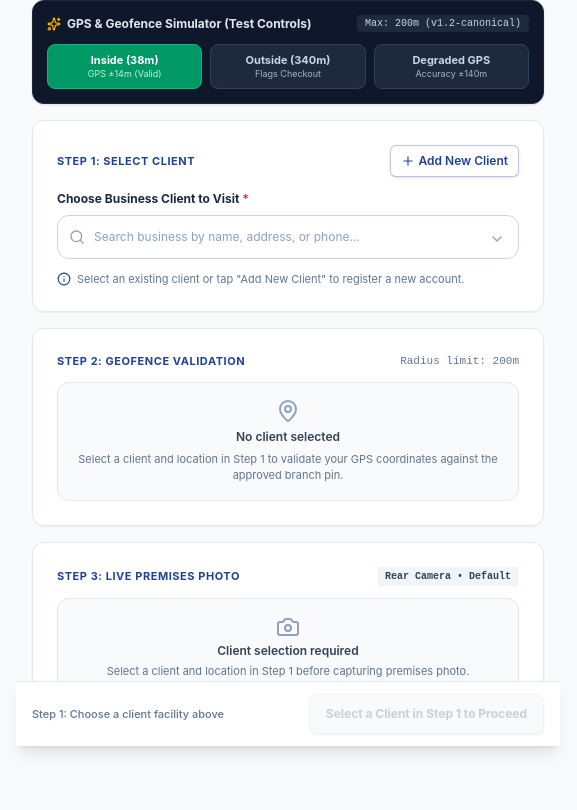
Test: Stage 3C: Client Visits, Geofencing, Photo Evidence & Meeting Logs › 2. Client & Location Selection (PRD §3 Step 1) › blocks normal verified check-in if selected branch has pending GPS pin approval
The image size is (577, 810).
Type "Bespoke Logistics Co" into the field with placeholder "Search business by name, address, or phone...". click: [288, 237]
box: [57, 215, 519, 259]
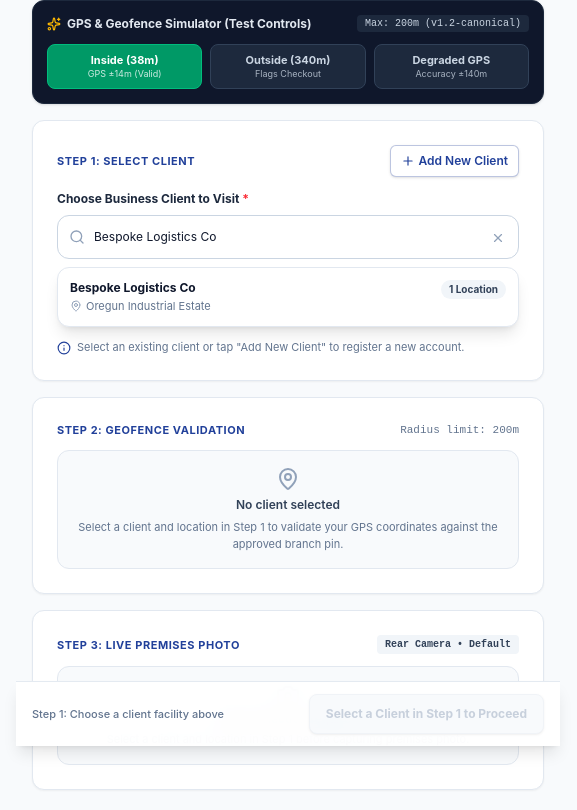
Click the button "Bespoke Logistics Co Oregun Industrial Estate 1 Location". click: [133, 287]
box: [58, 268, 518, 326]
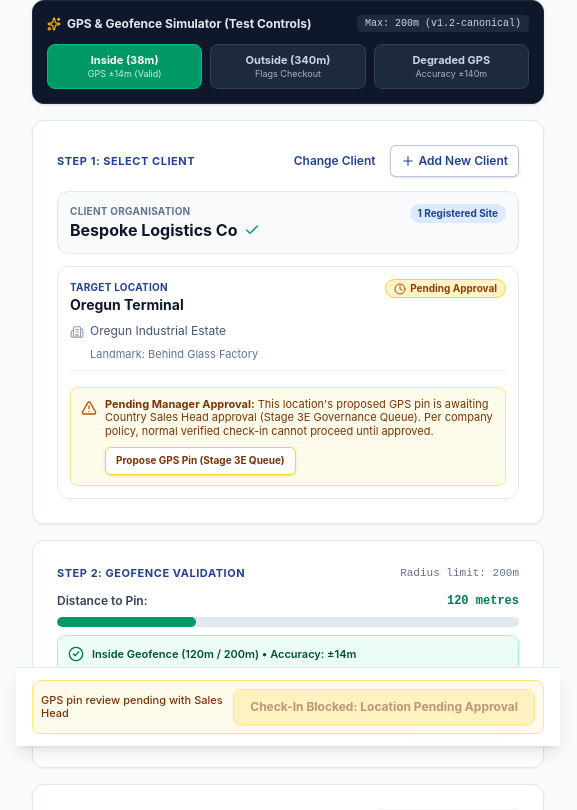
Expected: the button "Check-In Blocked: Location Pending Approval" is shown, [233, 689, 535, 725]
Expected: the text "Pending Manager Approval:" is shown, [105, 397, 255, 411]
